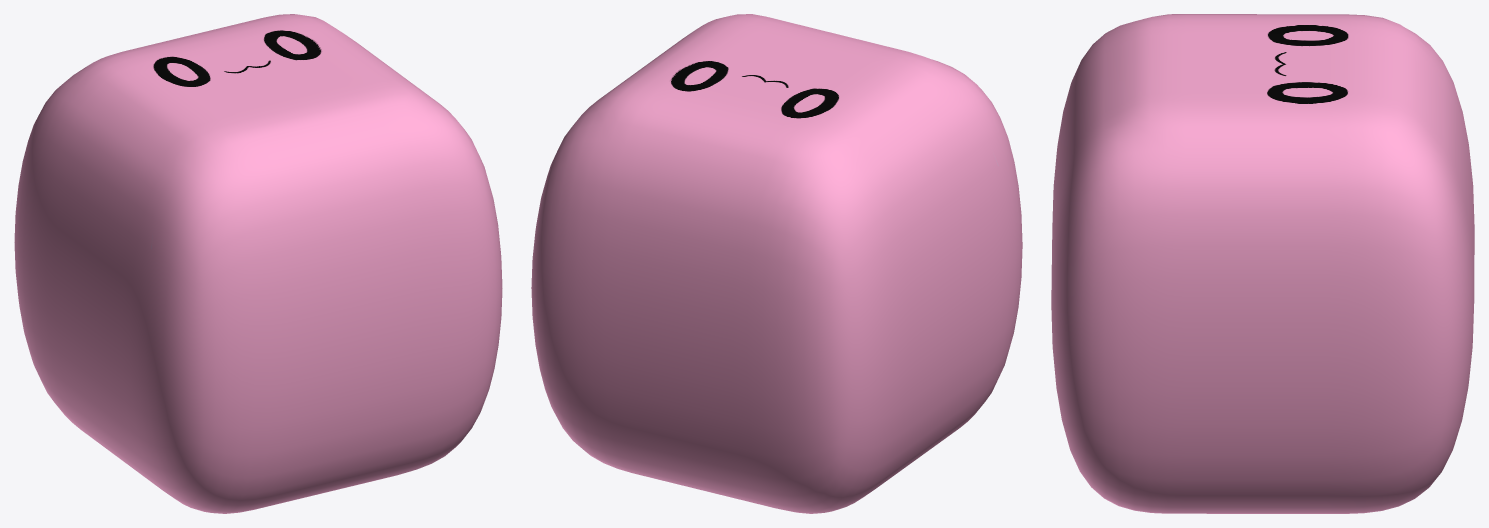
The model's file is pink_face.fbx.
3 renders of one model, left to right at view 1: azimuth 30°, elevation 25°; view 2: azimuth 150°, elevation 25°; view 3: azimuth 270°, elevation 25°, orthographic. The views are drawn at different scales.
Parts seen in each view (by area): view 1: pink_face; view 2: pink_face; view 3: pink_face.
Boxes of the visible parts, x1=… form: pink_face: x1=14, y1=14, x2=502, y2=513; pink_face: x1=531, y1=14, x2=1022, y2=513; pink_face: x1=1051, y1=14, x2=1474, y2=513.
Bounding box in the file's own units: 0.9746 × 1.01 × 0.9751.
Materials: 1 (1 with a texture image).
